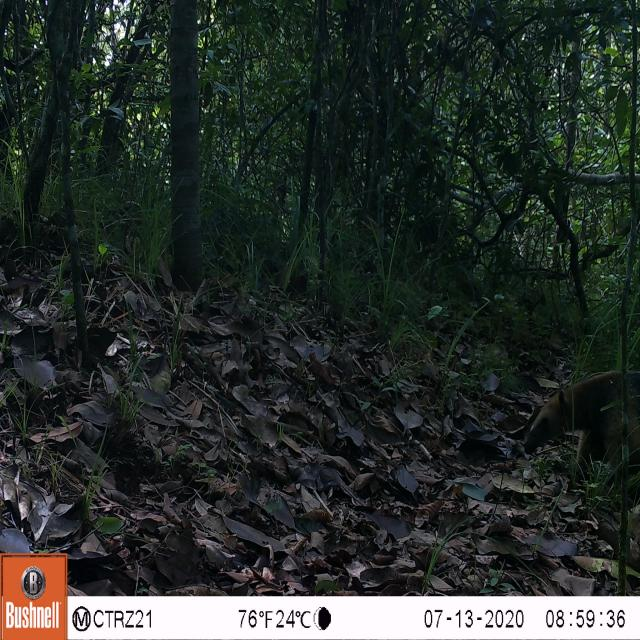Southern Tamandua: (543, 367, 640, 440)
